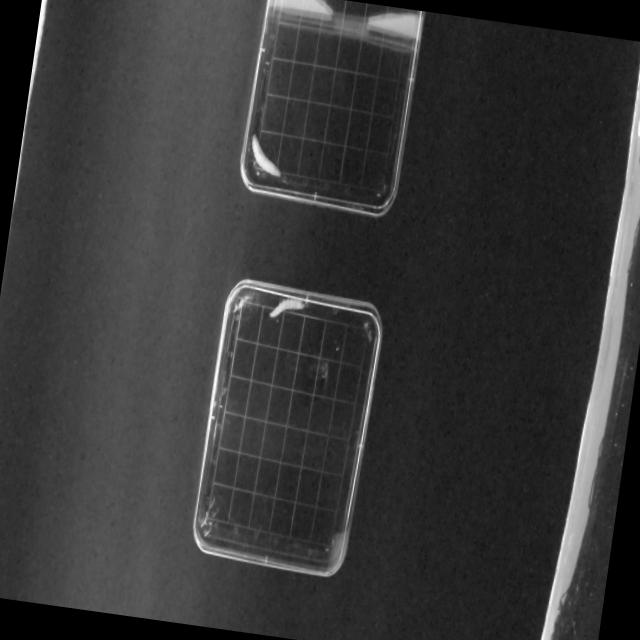larva: (246, 132, 286, 179), (268, 293, 306, 323)
